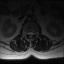CCS_normal: (29, 31, 31, 38)
LFS_normal: (34, 31, 36, 35)
LLS_normal: (31, 31, 34, 37)
RFS_normal: (25, 30, 27, 36)
RLS_normal: (27, 30, 29, 37)
